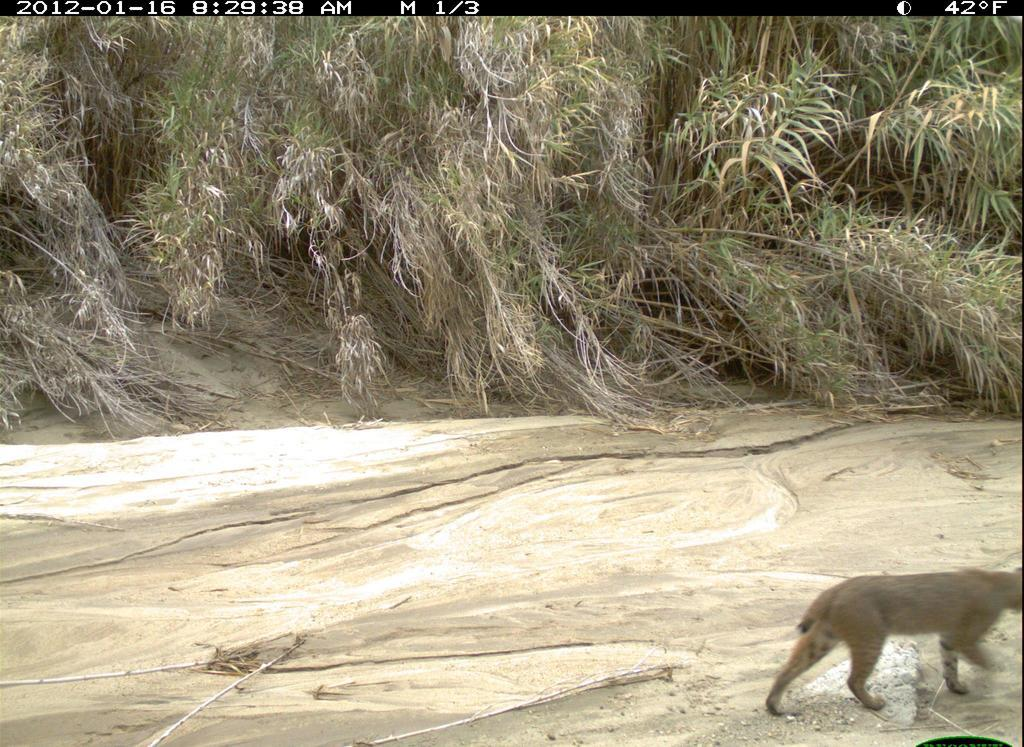bobcat: (762, 559, 1023, 725)
